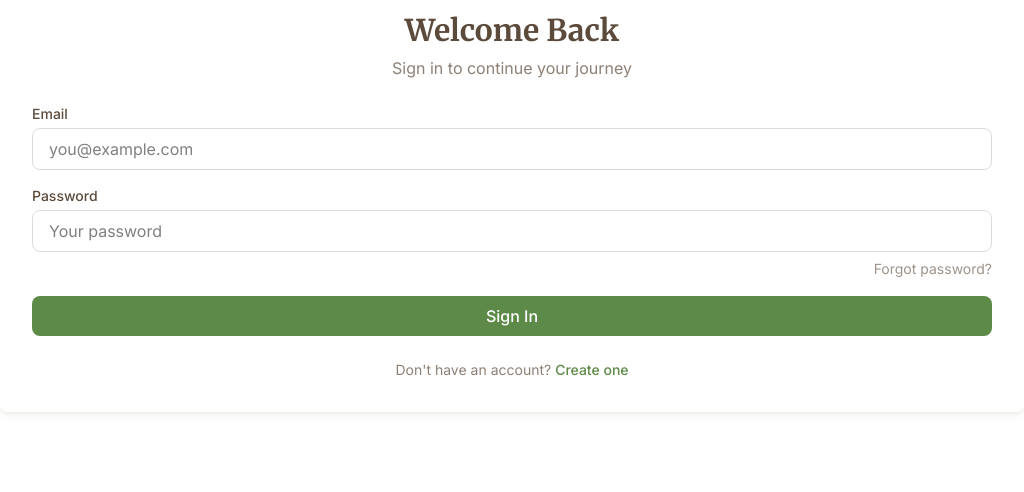
Test: LoginForm › should show a rate limit message when too many attempts were made
This screenshot has width=1024, height=492.
Type "test@example.com" into the field labelled "Email".
click(512, 149); type("test@example.com")  # box [32,128,992,170]
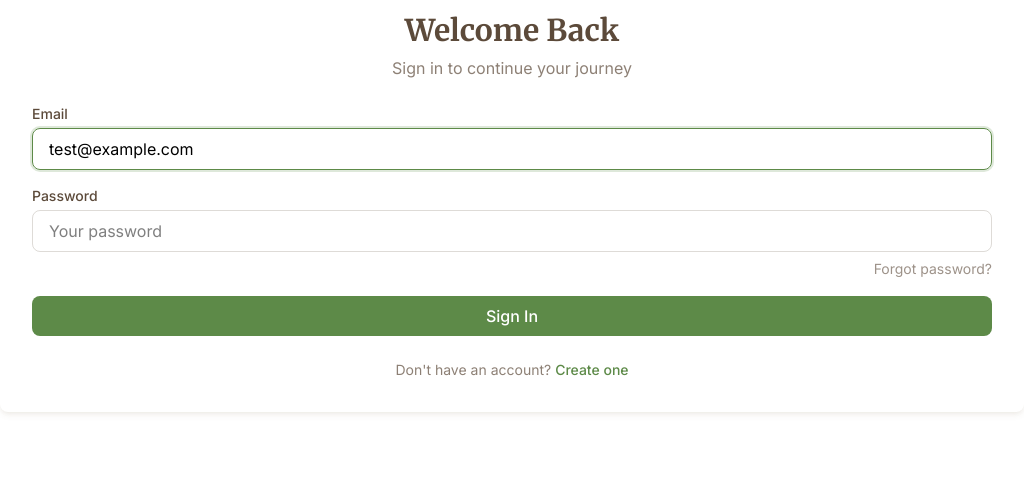
Type "password123" into the password field labelled "Password".
click(512, 231); type("password123")  # box [32,210,992,252]
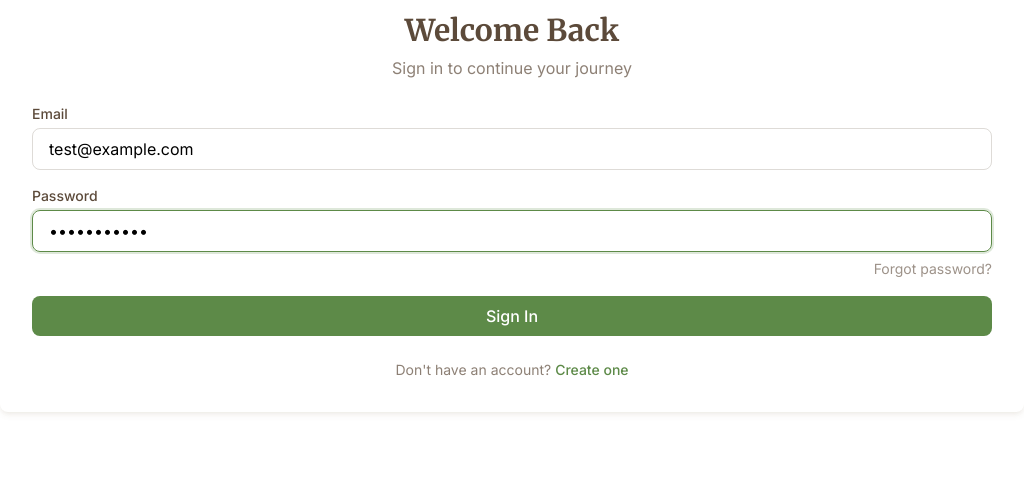
Click the button "Sign In".
click(512, 316)  # box [32,296,992,336]
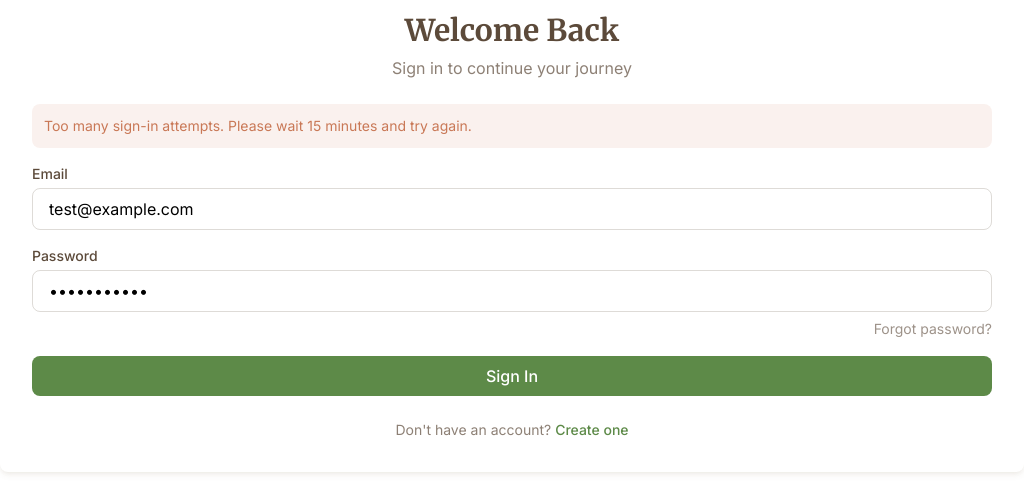
Now the text "Too many sign-in attempts" is shown, box [44,117,472,134]
